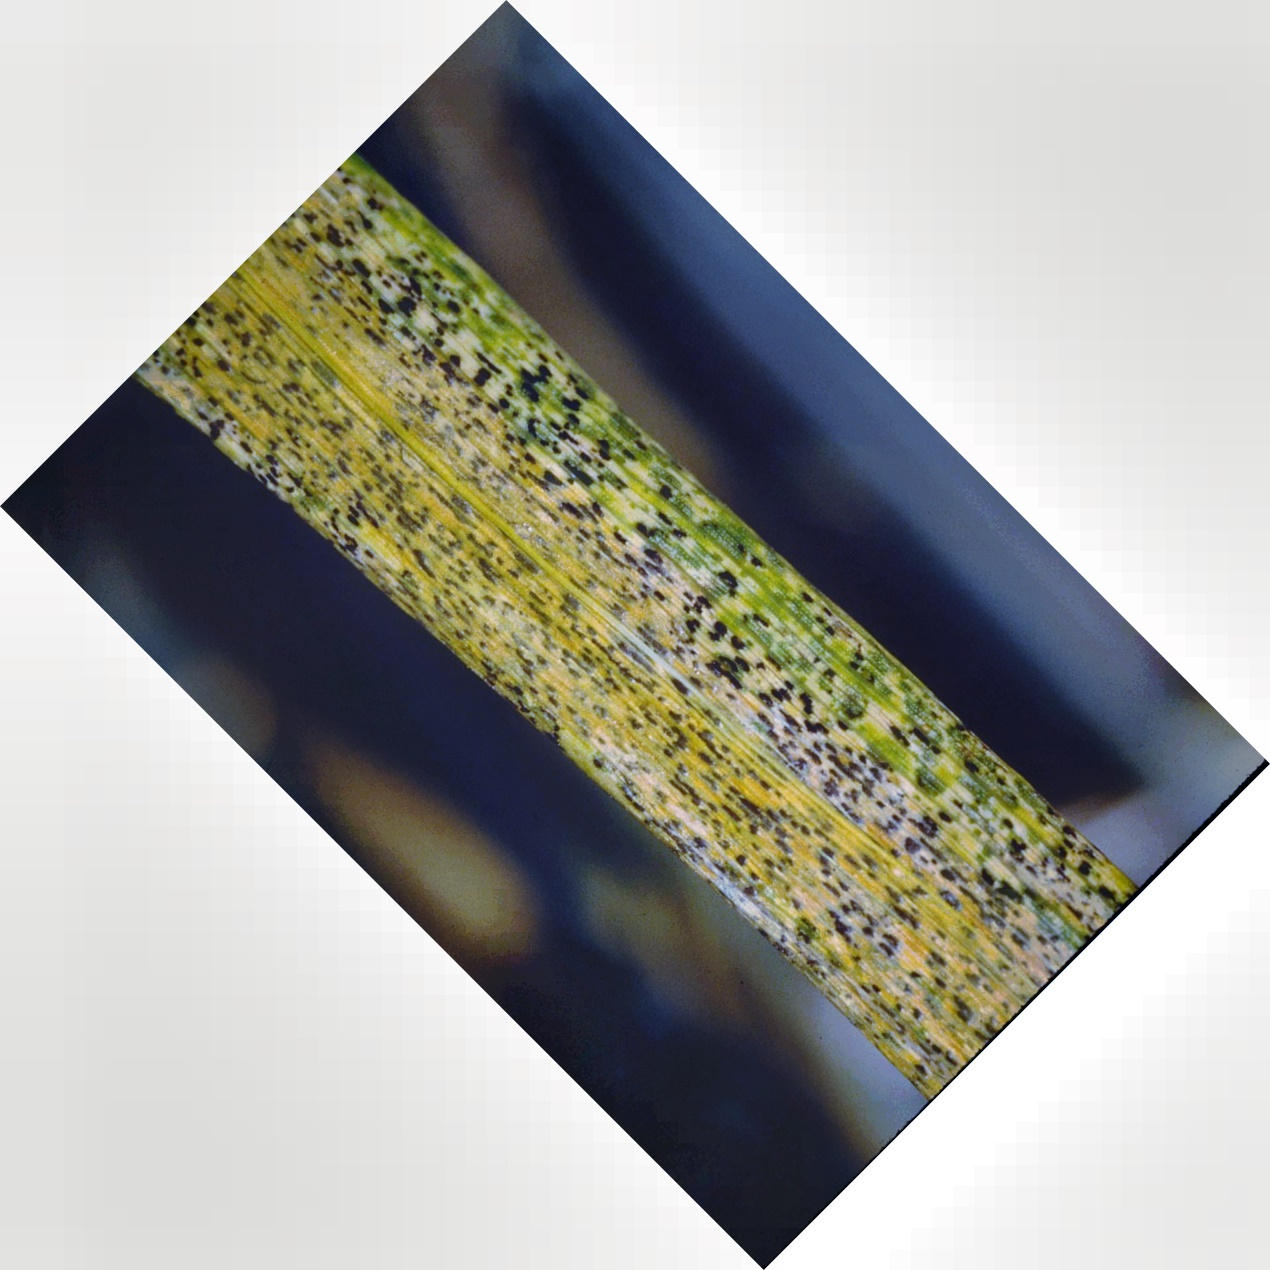Leaf Rust: (181, 276, 1007, 966)
